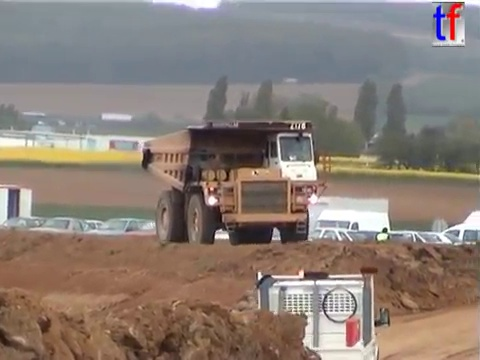truck: (139, 118, 334, 248), (249, 265, 392, 360)
worker: (372, 224, 392, 258)
